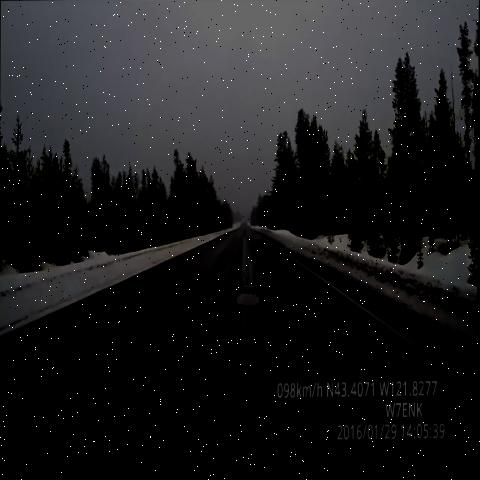pothole: (231, 273, 272, 322), (281, 270, 306, 286)
